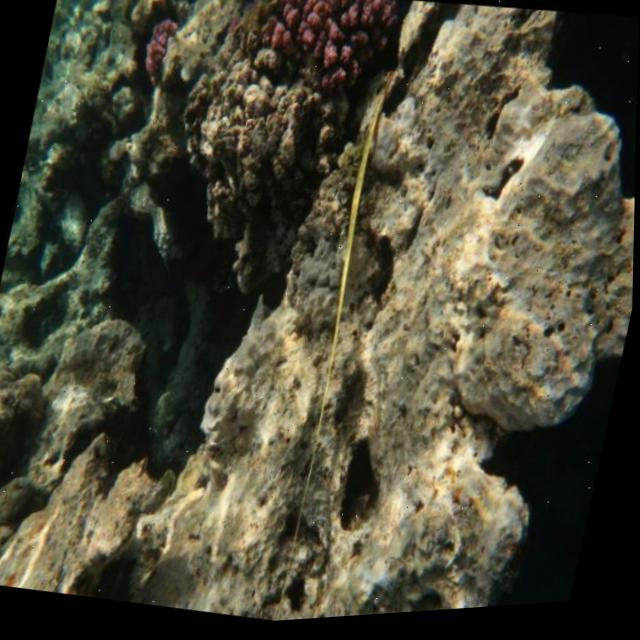Healthy Coral: (240, 0, 412, 118), (125, 4, 189, 96)
